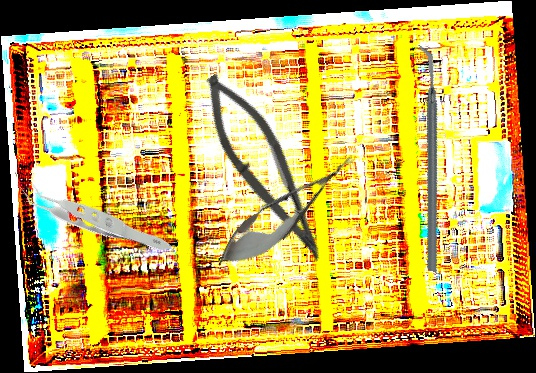Chopper: (339, 44, 516, 274)
Micro Scissor: (183, 64, 349, 271), (206, 140, 367, 282)
Tissue Forceps: (13, 129, 174, 301)
